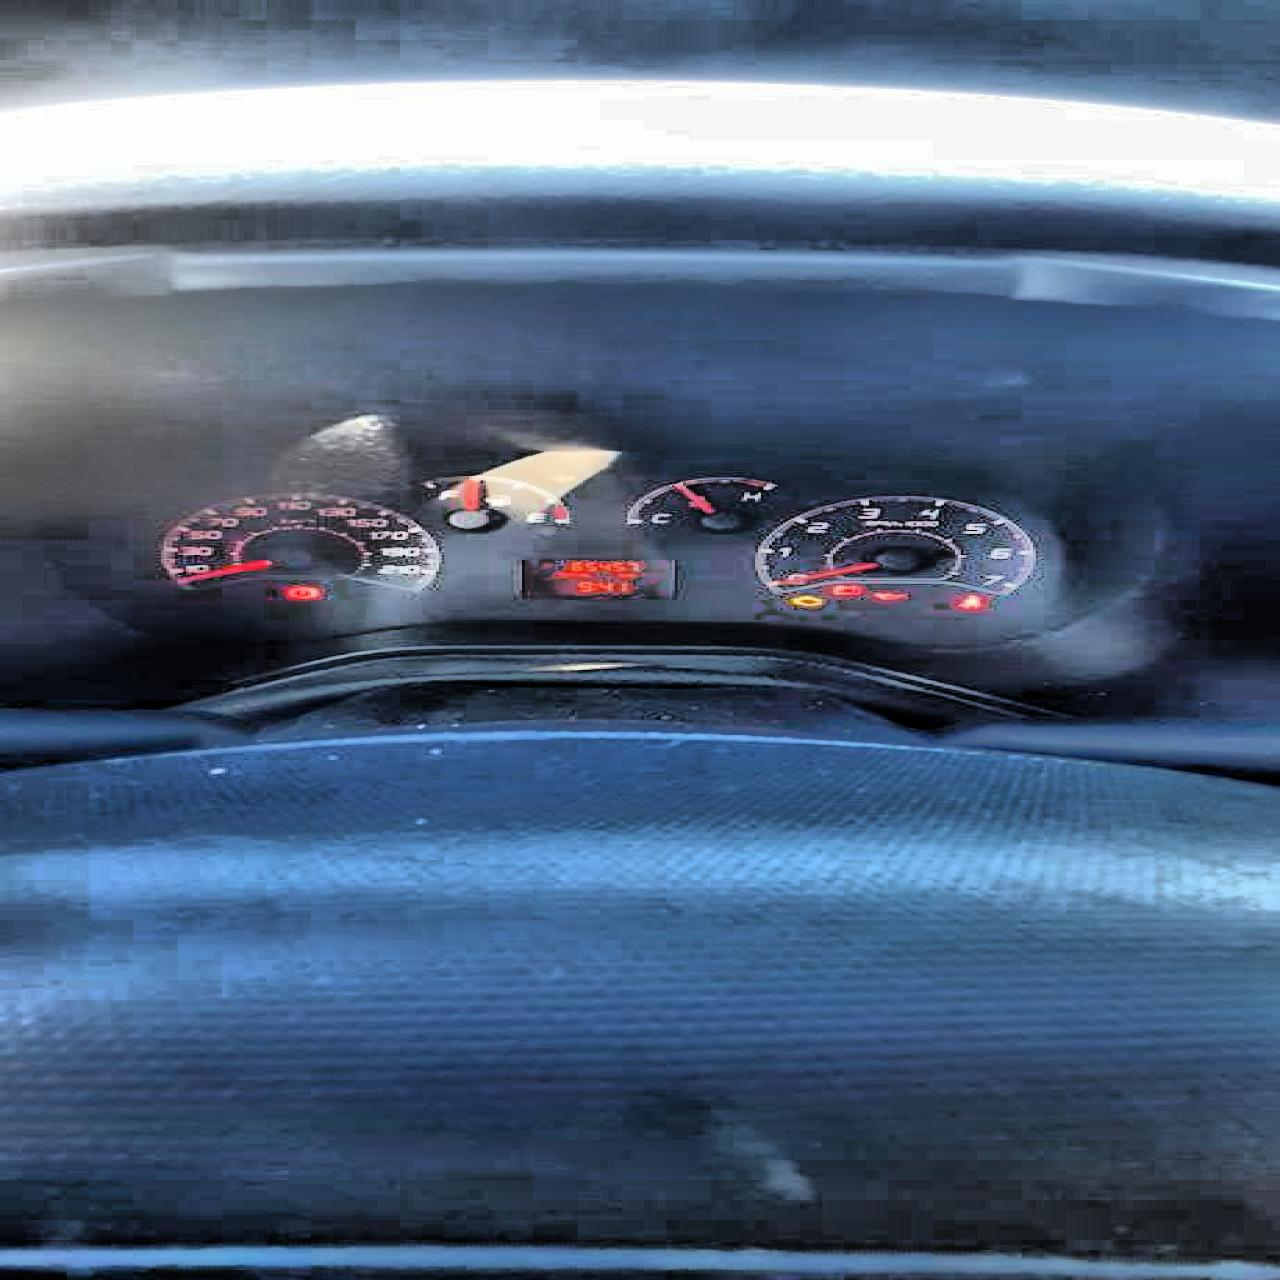1: (617, 581, 625, 590)
4: (594, 581, 611, 591), (597, 563, 611, 568)
5: (583, 561, 594, 570), (611, 561, 622, 570)
6: (568, 561, 583, 570)
7: (625, 561, 636, 570)
9: (574, 580, 588, 591)
X: (592, 583, 594, 590)
odometer: (516, 558, 675, 598)
